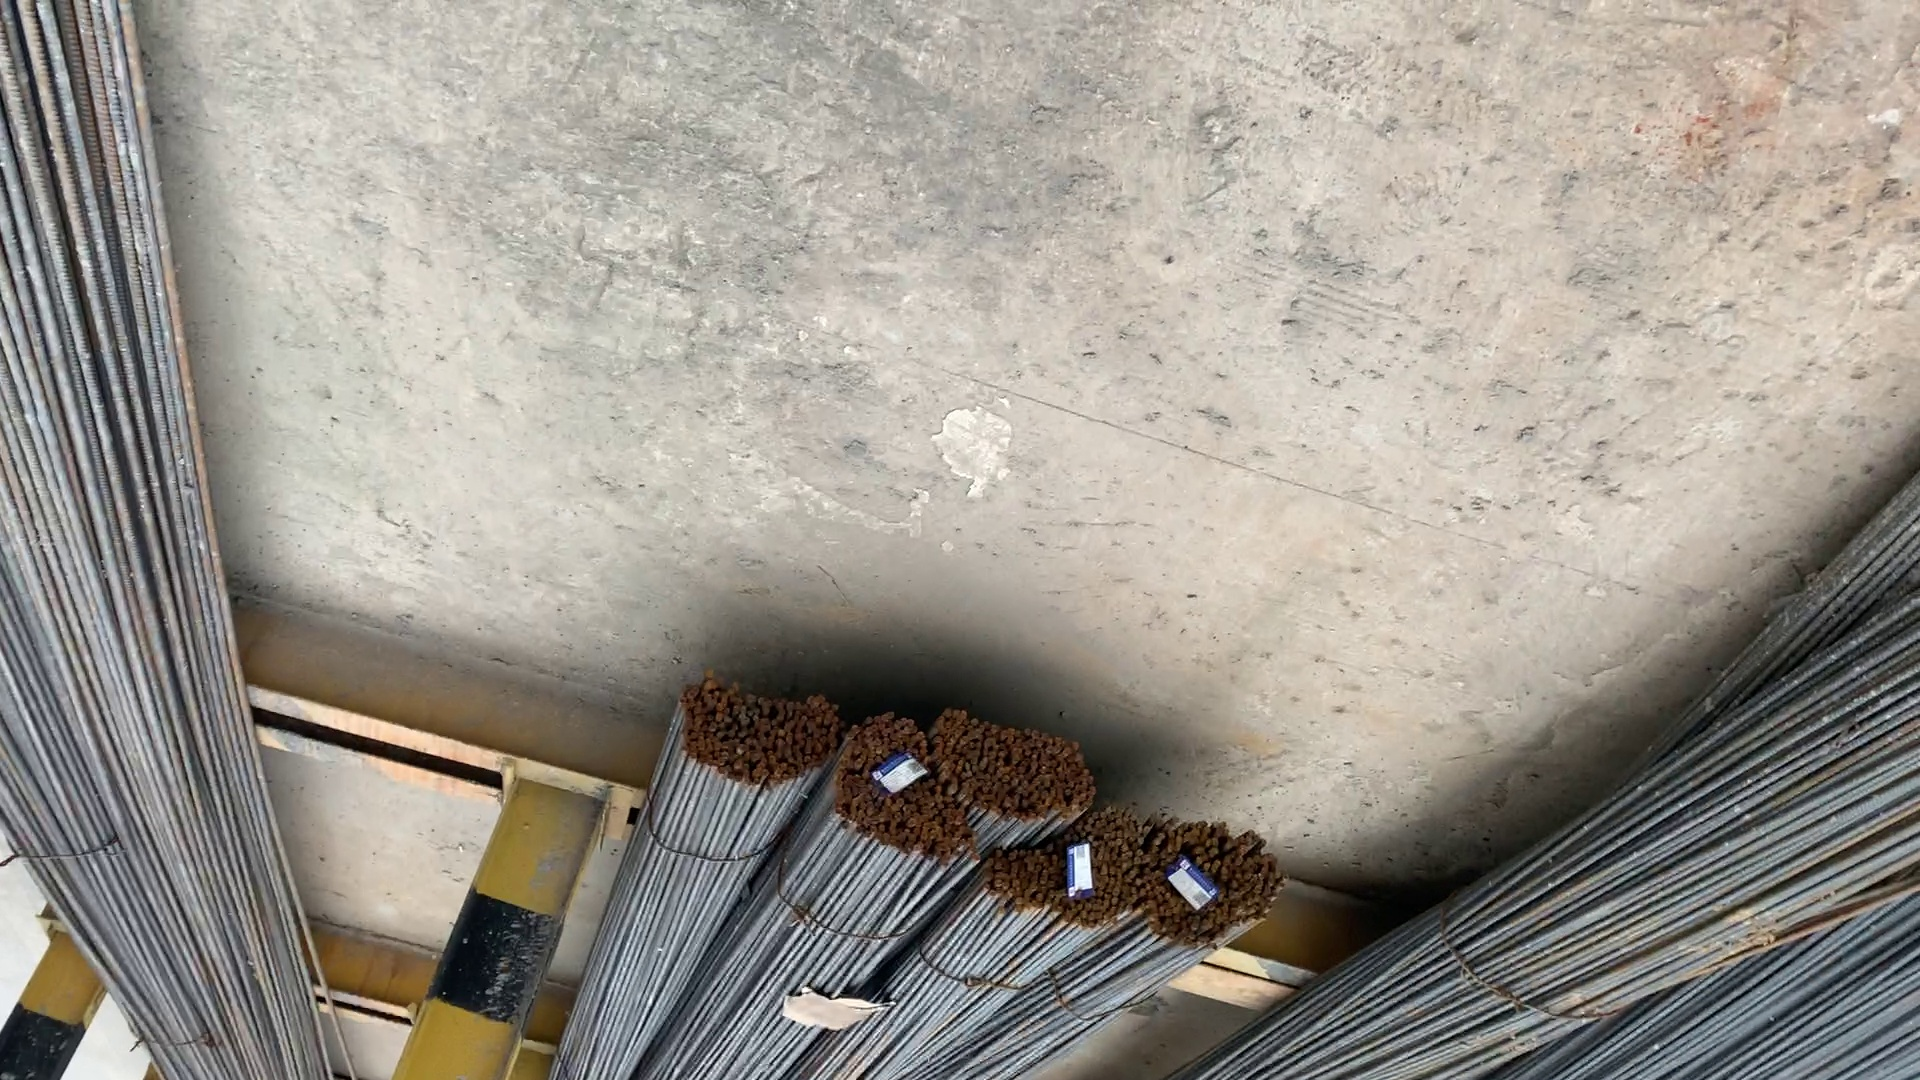rebar: (670, 675, 835, 789), (1143, 812, 1287, 942), (833, 719, 956, 864), (938, 708, 1085, 827), (992, 819, 1139, 930)
